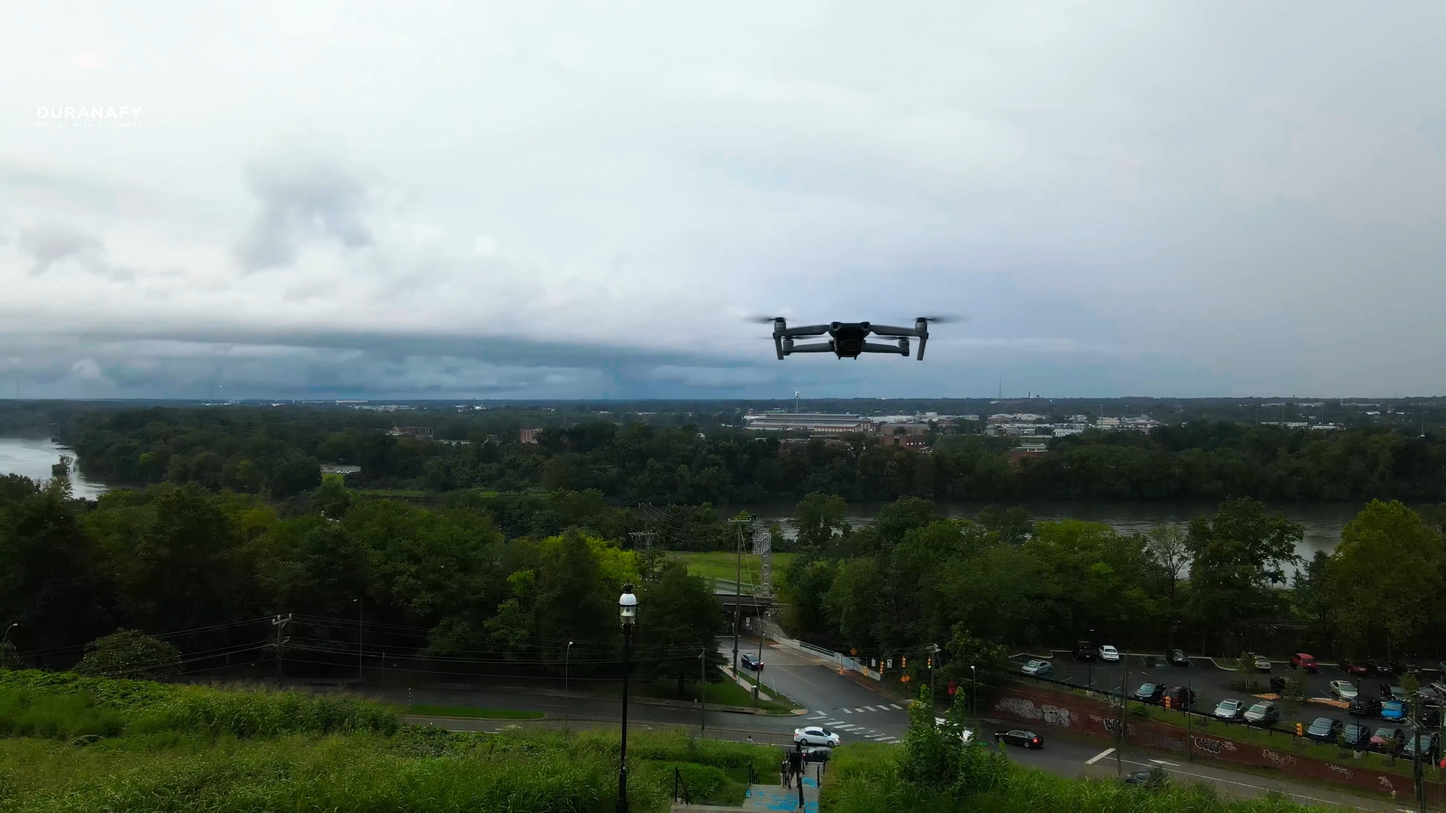drone_other: (727, 300, 981, 368)
